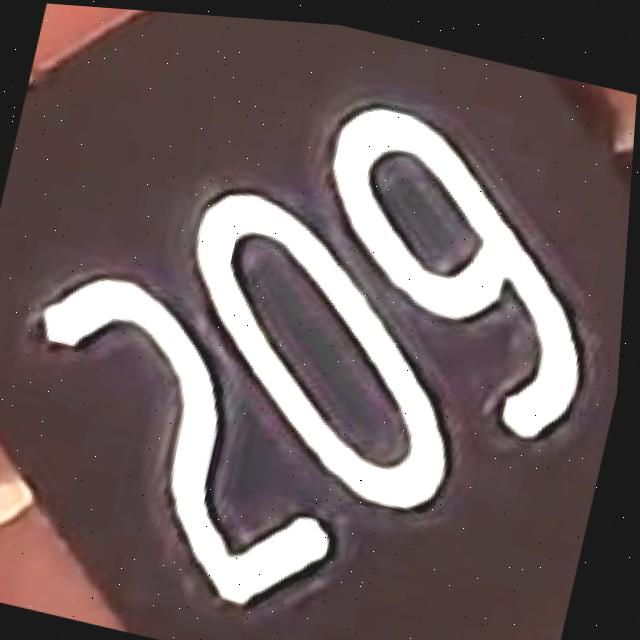character: (0, 251, 398, 637), (263, 81, 636, 456), (136, 169, 511, 528)
